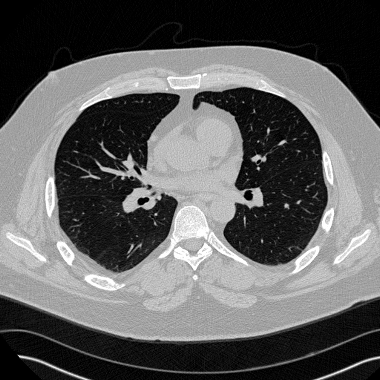nodule: (284, 203, 288, 207)
